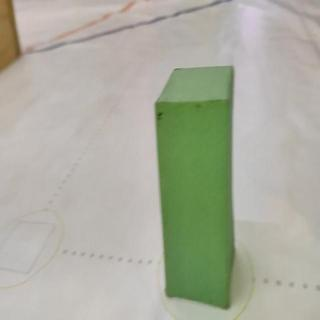greenbox: (153, 65, 238, 310)
